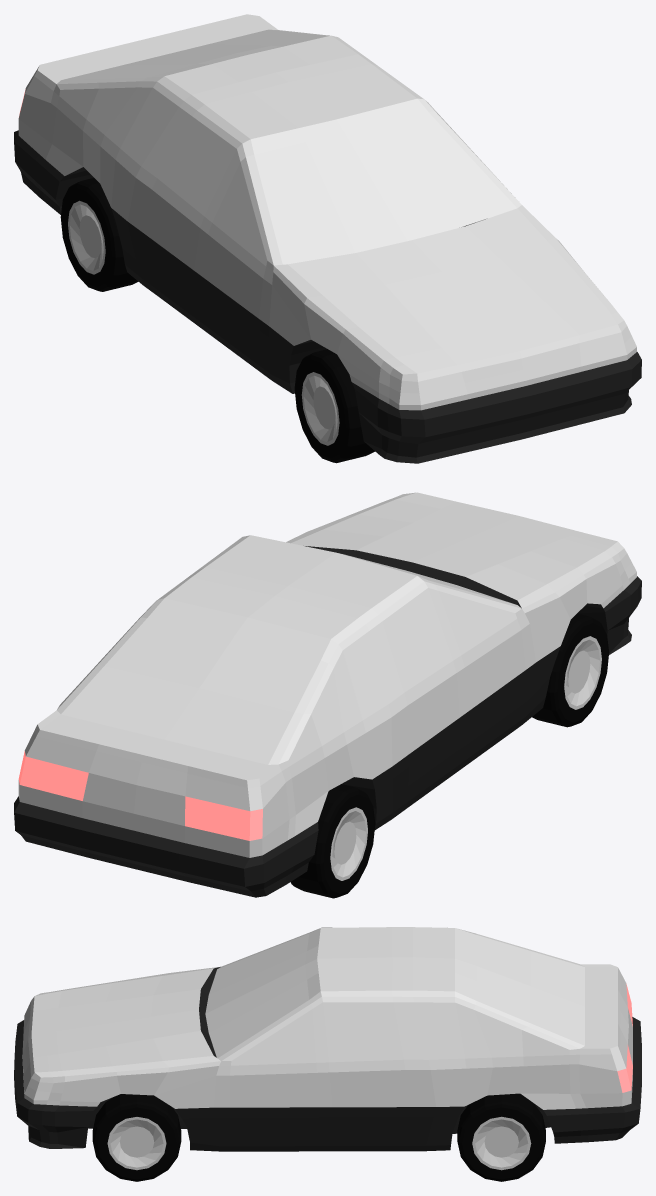
The model's file is Car.fbx.
The picture shows the model from 3 angles, top to bottom: view 1: azimuth 30°, elevation 25°; view 2: azimuth 150°, elevation 25°; view 3: azimuth 270°, elevation 25°; orthographic projection. The views are drawn at different scales.
Visible parts, largest first — view 1: Body, Wheel_FR, Wheel_RR; view 2: Body, Wheel_RR, Wheel_FR; view 3: Body, Wheel_FL, Wheel_RL.
Part boxes in pixels (left/top/right/bottom): Body: left=14, top=14, right=641, bottom=463; Wheel_FR: left=294, top=349, right=374, bottom=463; Wheel_RR: left=60, top=178, right=138, bottom=291; Body: left=14, top=492, right=641, bottom=897; Wheel_RR: left=290, top=784, right=375, bottom=898; Wheel_FR: left=532, top=613, right=608, bottom=727; Body: left=14, top=927, right=641, bottom=1151; Wheel_FL: left=92, top=1094, right=181, bottom=1181; Wheel_RL: left=457, top=1093, right=545, bottom=1181.
Size of the model in its own units: 163 by 425 by 132.
